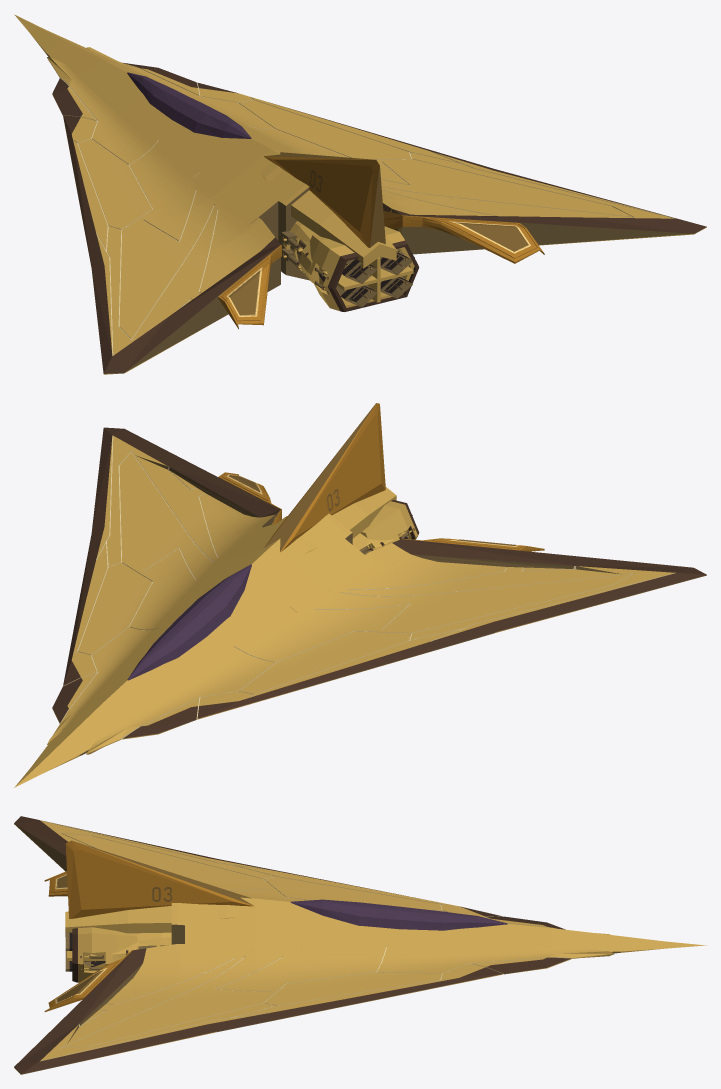
The model's file is C_gold_prism.glb.
3 views of the same model, one above another, from view 1: azimuth 30°, elevation 25°; view 2: azimuth 150°, elevation 25°; view 3: azimuth 270°, elevation 25° (orthographic). The views are drawn at different scales.
Visible parts, largest first — view 1: AF_MAIN_WING_JOINED_01, AF_BODY_01, AF_MATCH_TAIL_CENTER, AF_REAR_WING_R2_R_flush_trailing_extension_no_intrusion, AF_DOME_CENTER_01, AF_MATCH_AFT_SADDLE, AF_REAR_WING_R2_R_flush_trailing_extension_no_intrusion_L, AF_ENGINE_E3_common_hexagonal_armored_housing, AF_ENGINE_E3_common_mouth_beveled_rim, AF_ENGINE_E3_single_bell_distribution_housing, AF_ENGINE_E3_central_horizontal_cell_web; view 2: AF_MAIN_WING_JOINED_01, AF_BODY_01, AF_MATCH_TAIL_CENTER, AF_DOME_CENTER_01, AF_MATCH_AFT_SADDLE, AF_ENGINE_E3_common_hexagonal_armored_housing, AF_REAR_WING_R2_R_flush_trailing_extension_no_intrusion, AF_REAR_WING_R2_R_flush_trailing_extension_no_intrusion_L; view 3: AF_MAIN_WING_JOINED_01, AF_MATCH_TAIL_CENTER, AF_DOME_CENTER_01, AF_MATCH_AFT_SADDLE, AF_ENGINE_E3_common_hexagonal_armored_housing, AF_REAR_WING_R2_R_flush_trailing_extension_no_intrusion, AF_ENGINE_E3_single_bell_distribution_housing, AF_REAR_WING_R2_R_flush_trailing_extension_no_intrusion_L.
Boxes of the visible parts, bbox=[...] form: AF_MAIN_WING_JOINED_01: bbox=[18, 16, 706, 374]; AF_BODY_01: bbox=[14, 14, 309, 280]; AF_MATCH_TAIL_CENTER: bbox=[264, 152, 385, 247]; AF_REAR_WING_R2_R_flush_trailing_extension_no_intrusion: bbox=[383, 211, 544, 263]; AF_DOME_CENTER_01: bbox=[127, 72, 251, 138]; AF_MATCH_AFT_SADDLE: bbox=[261, 162, 396, 268]; AF_REAR_WING_R2_R_flush_trailing_extension_no_intrusion_L: bbox=[218, 245, 281, 329]; AF_ENGINE_E3_common_hexagonal_armored_housing: bbox=[307, 226, 414, 310]; AF_ENGINE_E3_common_mouth_beveled_rim: bbox=[327, 240, 419, 311]; AF_ENGINE_E3_single_bell_distribution_housing: bbox=[282, 221, 315, 283]; AF_ENGINE_E3_central_horizontal_cell_web: bbox=[322, 266, 413, 290]; AF_MAIN_WING_JOINED_01: bbox=[14, 427, 706, 787]; AF_BODY_01: bbox=[15, 513, 375, 787]; AF_MATCH_TAIL_CENTER: bbox=[264, 403, 385, 552]; AF_DOME_CENTER_01: bbox=[127, 564, 251, 680]; AF_MATCH_AFT_SADDLE: bbox=[261, 487, 396, 554]; AF_ENGINE_E3_common_hexagonal_armored_housing: bbox=[360, 501, 417, 548]; AF_REAR_WING_R2_R_flush_trailing_extension_no_intrusion: bbox=[218, 472, 281, 524]; AF_REAR_WING_R2_R_flush_trailing_extension_no_intrusion_L: bbox=[402, 538, 544, 551]; AF_MAIN_WING_JOINED_01: bbox=[14, 816, 706, 1074]; AF_MATCH_TAIL_CENTER: bbox=[65, 840, 254, 918]; AF_DOME_CENTER_01: bbox=[290, 899, 507, 930]; AF_MATCH_AFT_SADDLE: bbox=[65, 905, 238, 936]; AF_ENGINE_E3_common_hexagonal_armored_housing: bbox=[78, 927, 137, 982]; AF_REAR_WING_R2_R_flush_trailing_extension_no_intrusion: bbox=[44, 950, 132, 1011]; AF_ENGINE_E3_single_bell_distribution_housing: bbox=[112, 932, 171, 960]; AF_REAR_WING_R2_R_flush_trailing_extension_no_intrusion_L: bbox=[44, 871, 67, 896].
Bounding box in the file's own units: 12.4 × 3.23 × 14.07.
16 materials, 4 textured.
